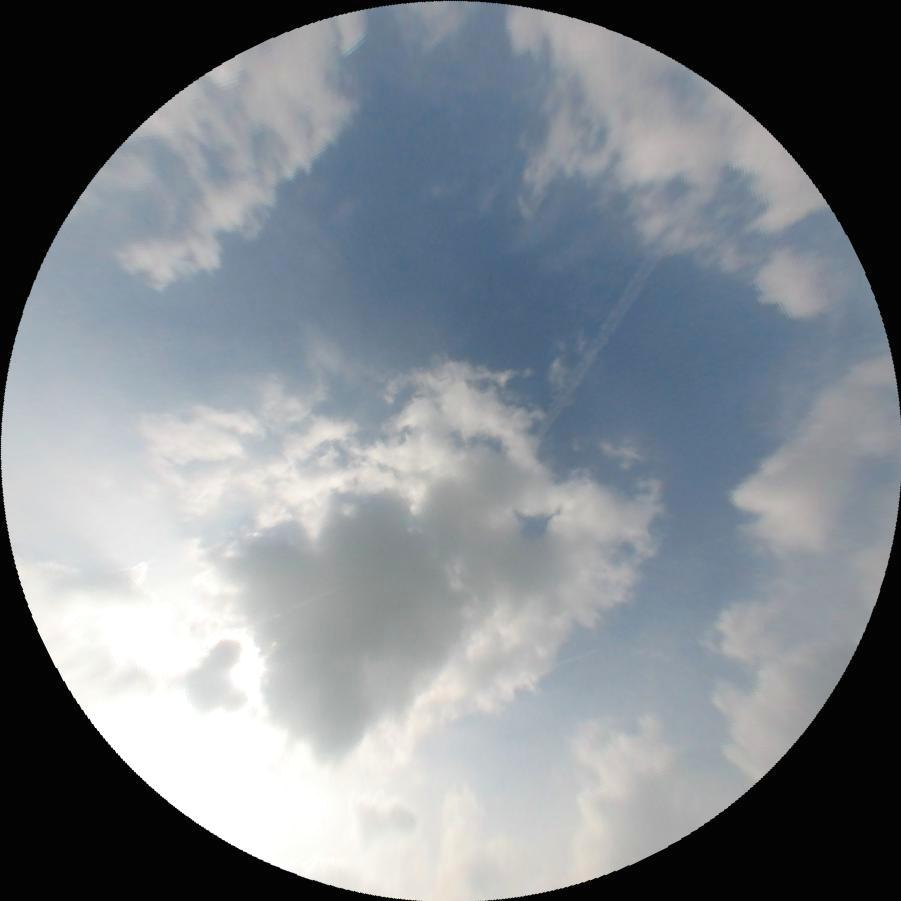contrail veryold: (527, 246, 665, 439)
contrail young: (552, 646, 603, 667)
sun: (87, 618, 366, 901)
